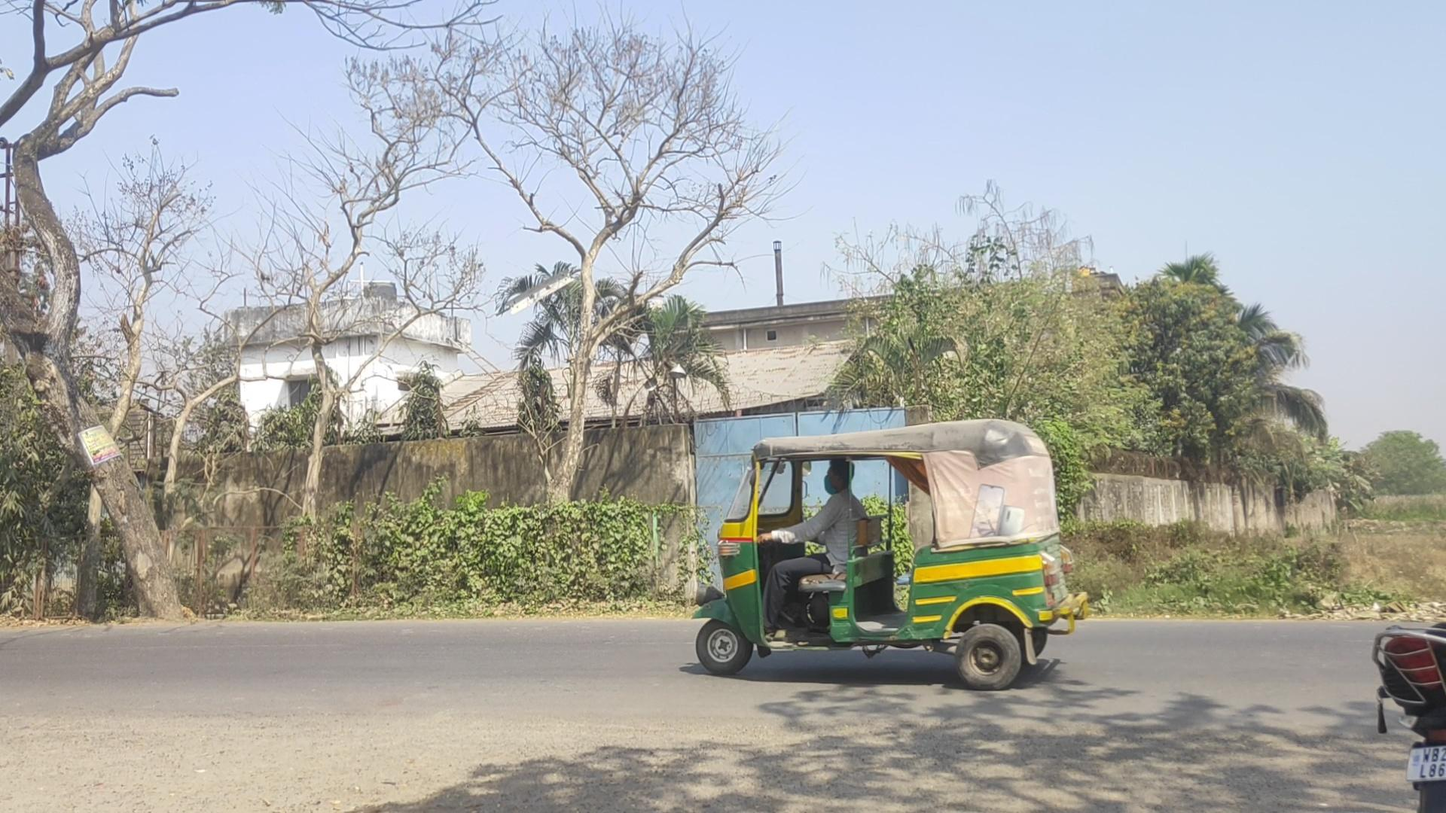Auto: (692, 418, 1089, 690)
